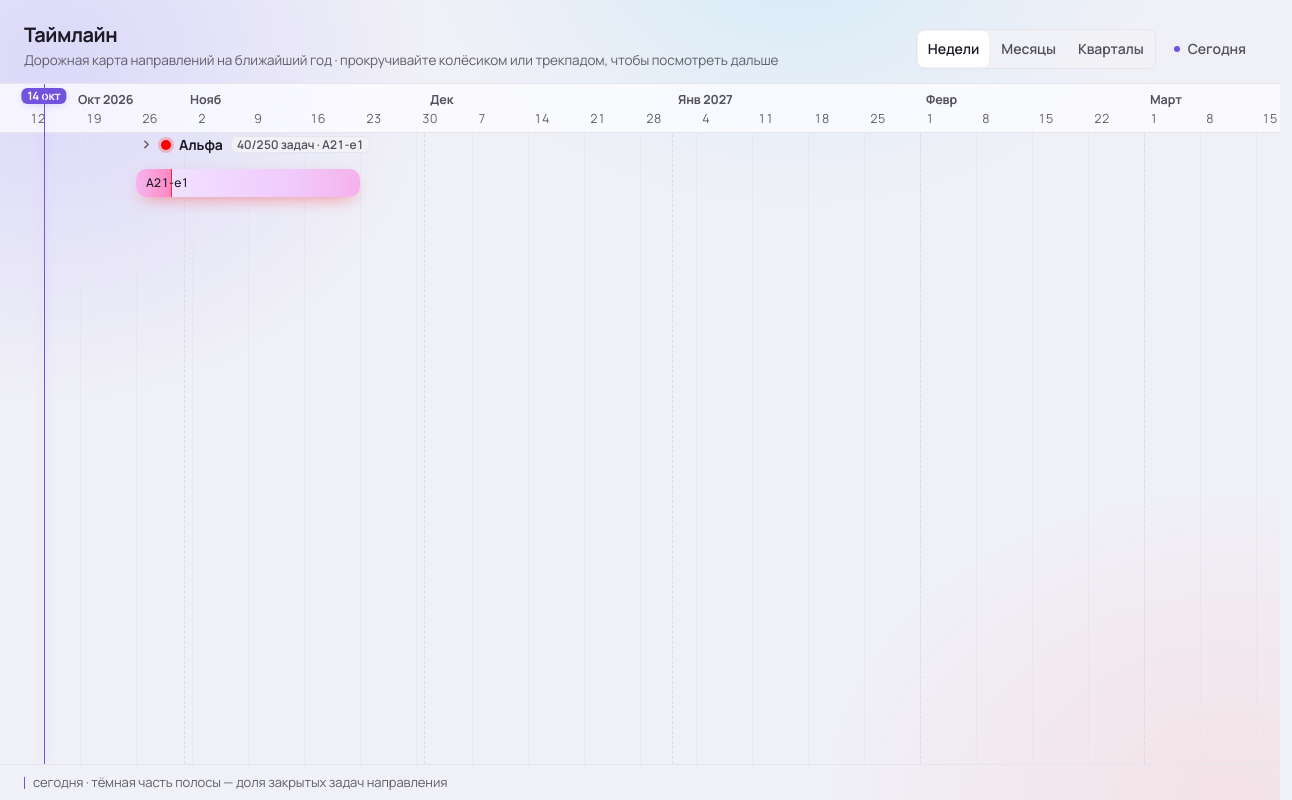
Timeline при частичном сторе › узел с >100 детьми (250): три страницы 100+100+50, счётчик «Показано N из 250», курсоры по цепочке, без дублей
This screenshot has width=1292, height=800.
Click the button "Альфа 40/250 задач · A21-e1" at (257, 145), box [136,133,378,157]
(page scrolled)
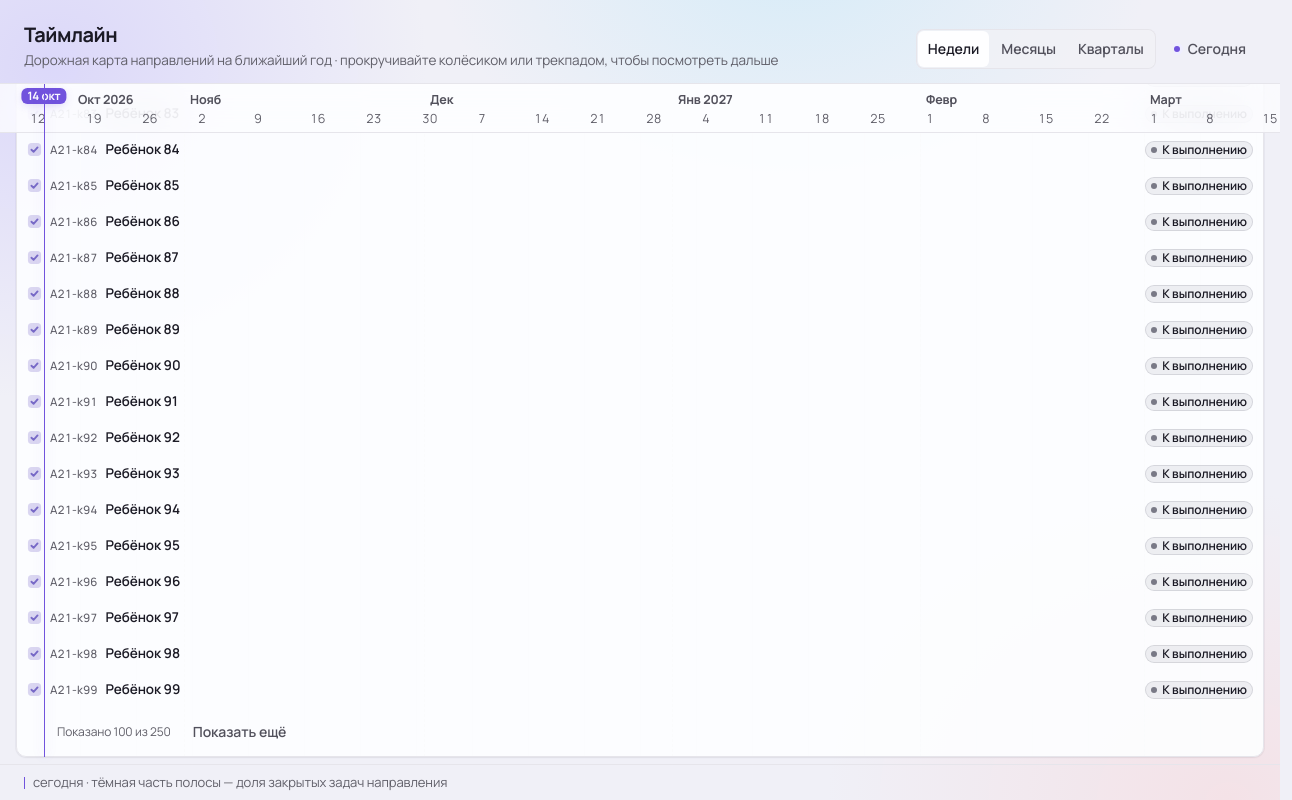
Now the text "Показано 100 из 250" is shown, box [57,723,171,740]
Click the button "Показать ещё" at (240, 732), box [183,714,296,750]
(page scrolled)
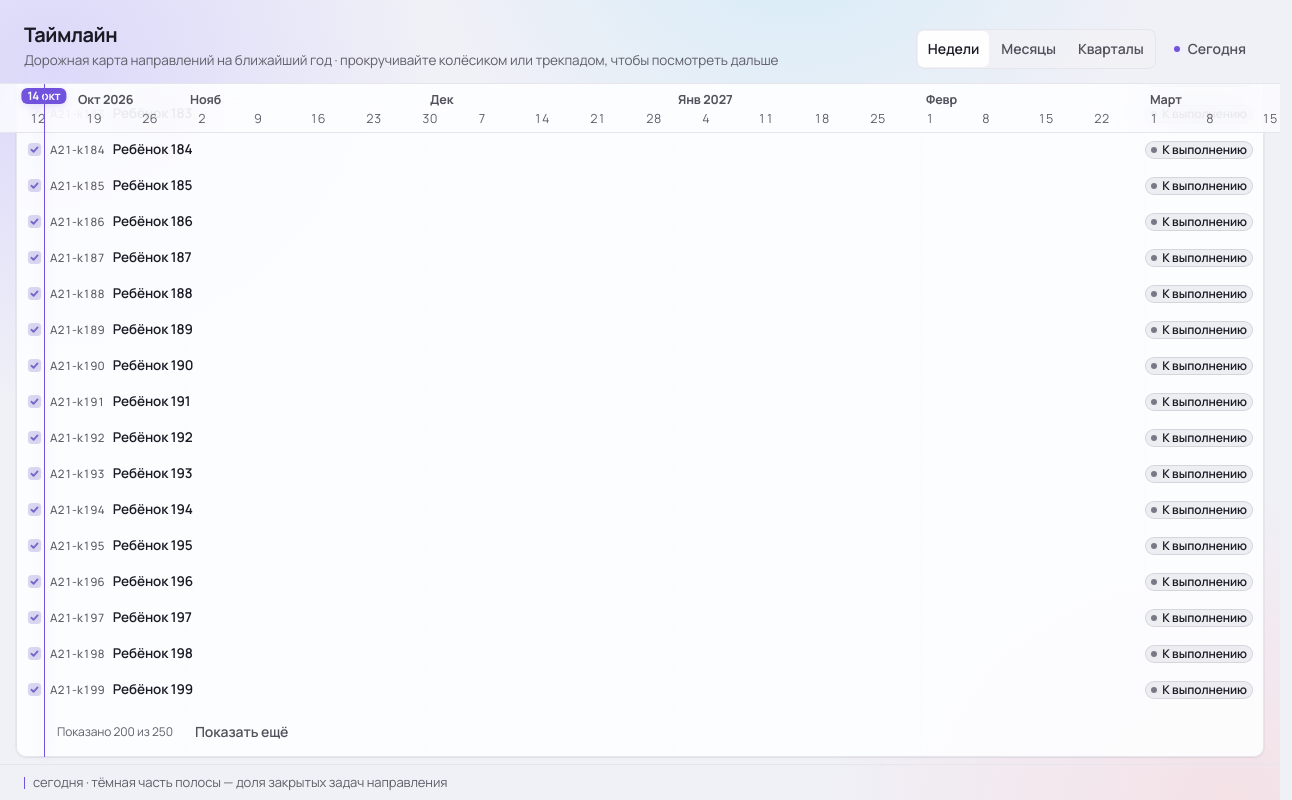
Now the text "Показано 200 из 250" is shown, box [57,723,173,740]
Click the button "Показать ещё" at (242, 732), box [185,714,298,750]
(page scrolled)
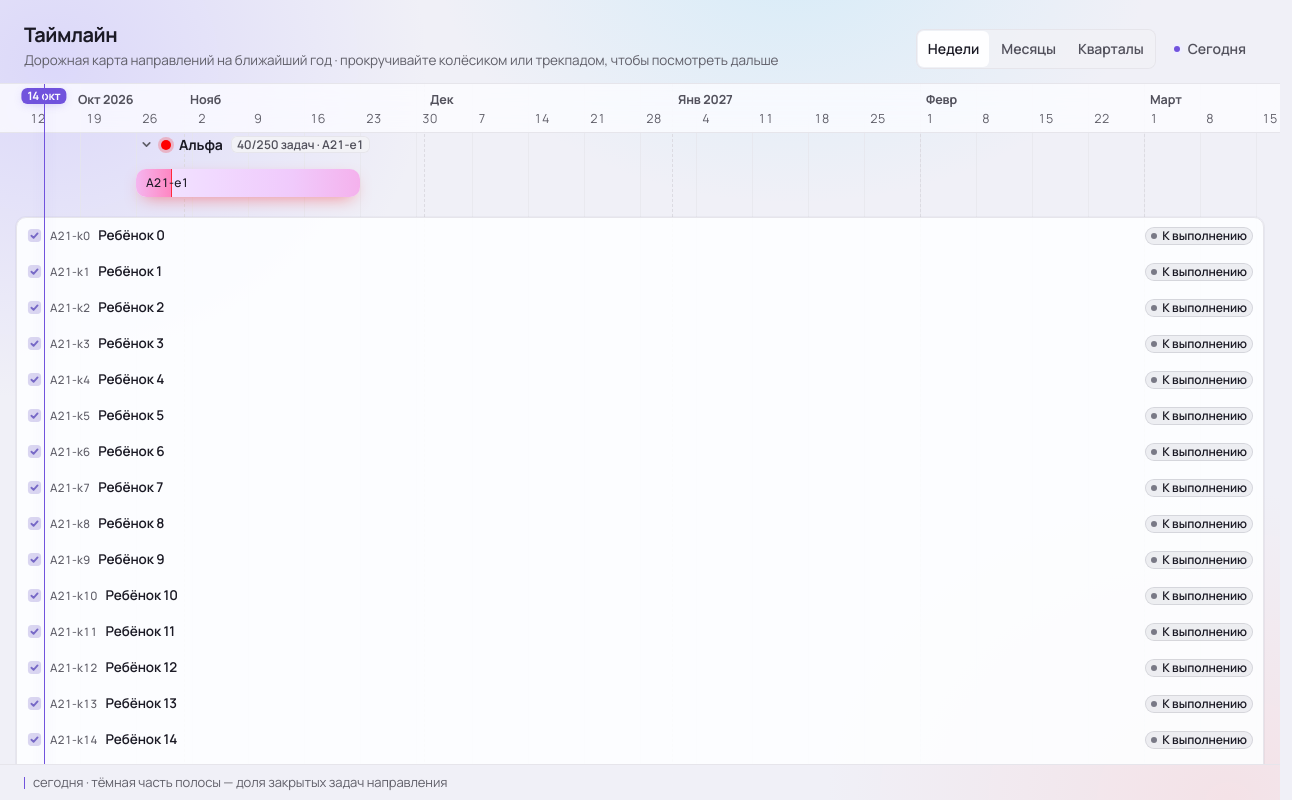
Now the text "Ребёнок 0" is shown 250 times
Now the button "Показать ещё" is gone
Now the text "Показано 200 из 250" is gone
